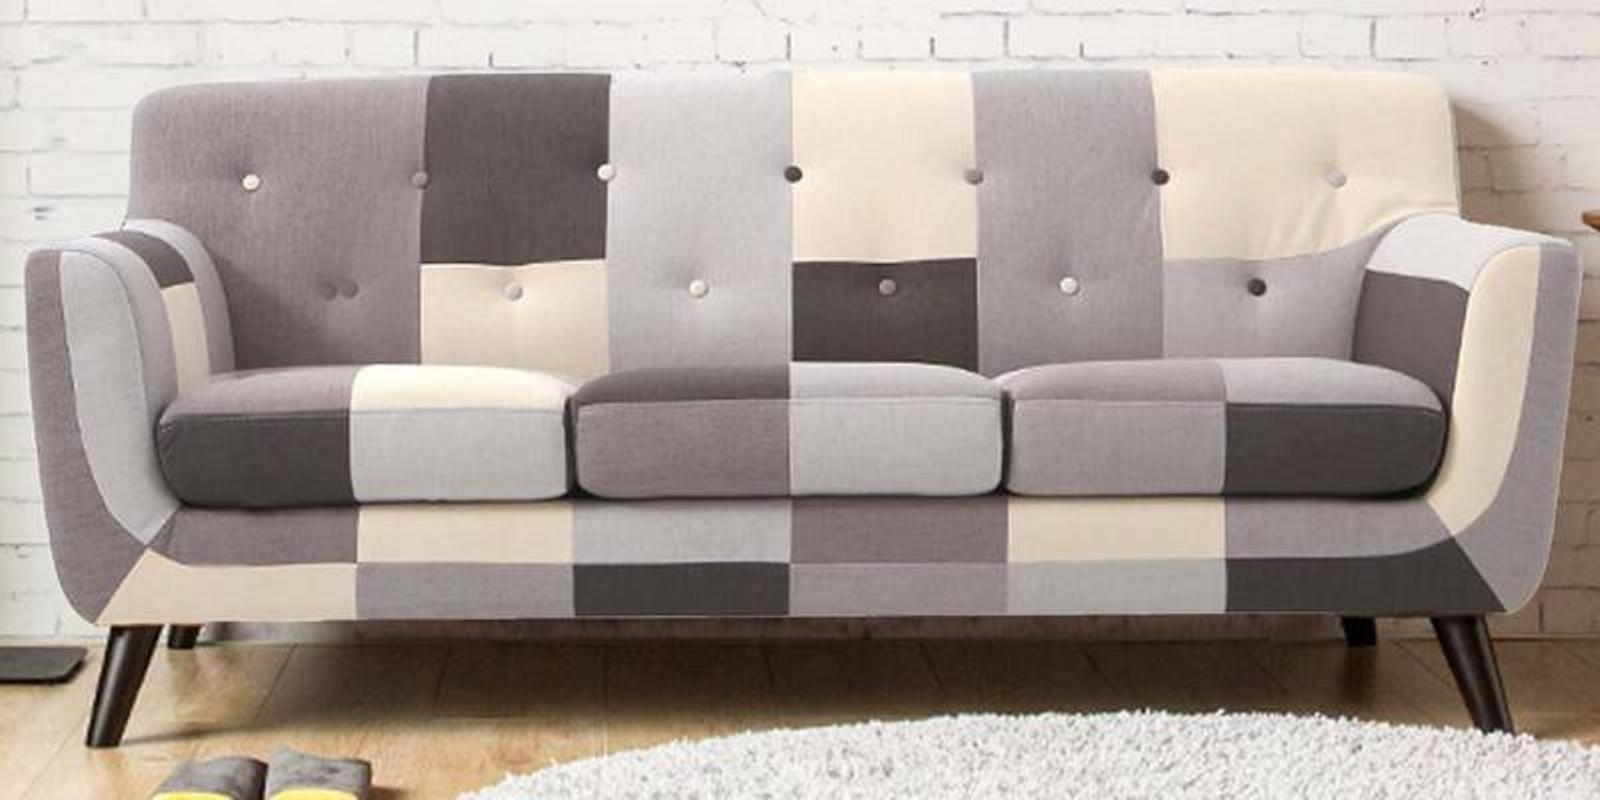Frida Three Seater Sofa in Grey Multi Colour by CasaCraft: (18, 69, 1584, 763)
